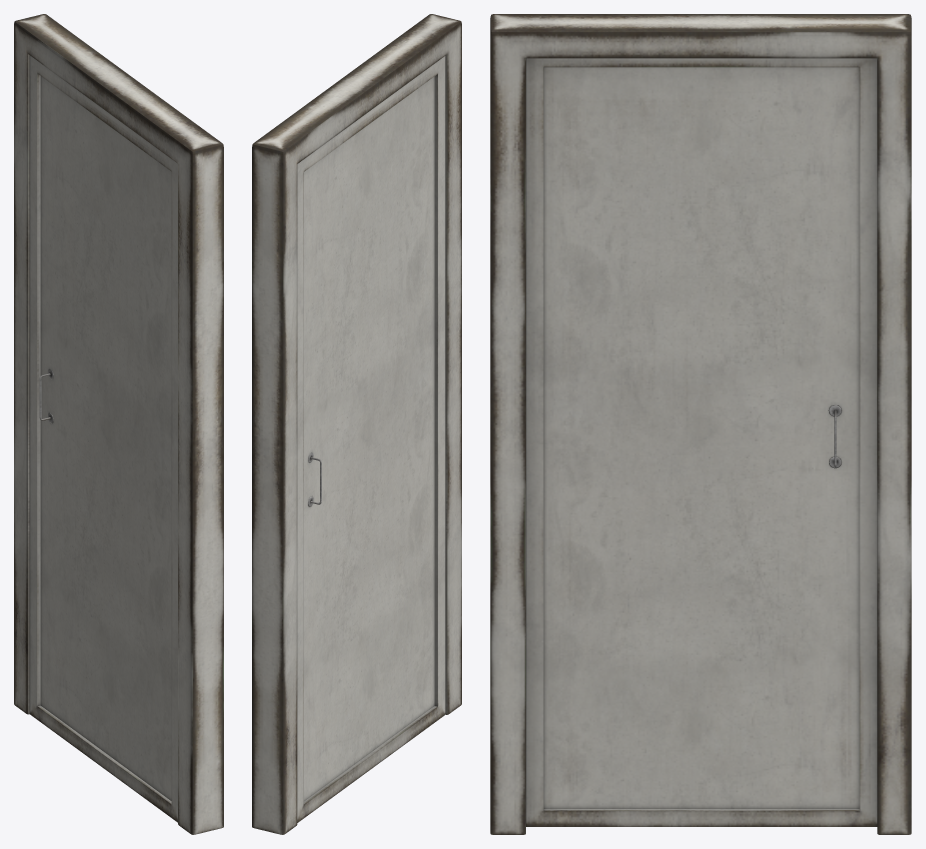
Rendered from soviet_door.glb.
The picture shows the model from 3 angles, left to right: view 1: azimuth 30°, elevation 25°; view 2: azimuth 150°, elevation 25°; view 3: azimuth 270°, elevation 25°; orthographic projection. The views are drawn at different scales.
Visible parts, largest first — view 1: Object_2; view 2: Object_2; view 3: Object_2.
Part boxes in pixels (<box>): Object_2: <box>14,14,223,834</box>; Object_2: <box>252,14,461,834</box>; Object_2: <box>490,14,911,834</box>.
Size of the model in its own units: 118 by 2020 by 960.
Materials: 1 (1 with a texture image).
